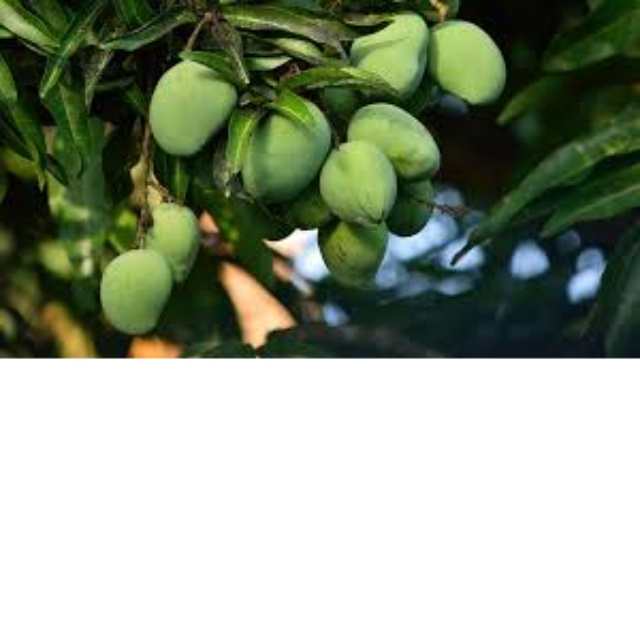thanh_long: (144, 51, 236, 160), (423, 12, 516, 112), (96, 245, 180, 338), (323, 133, 397, 236)
